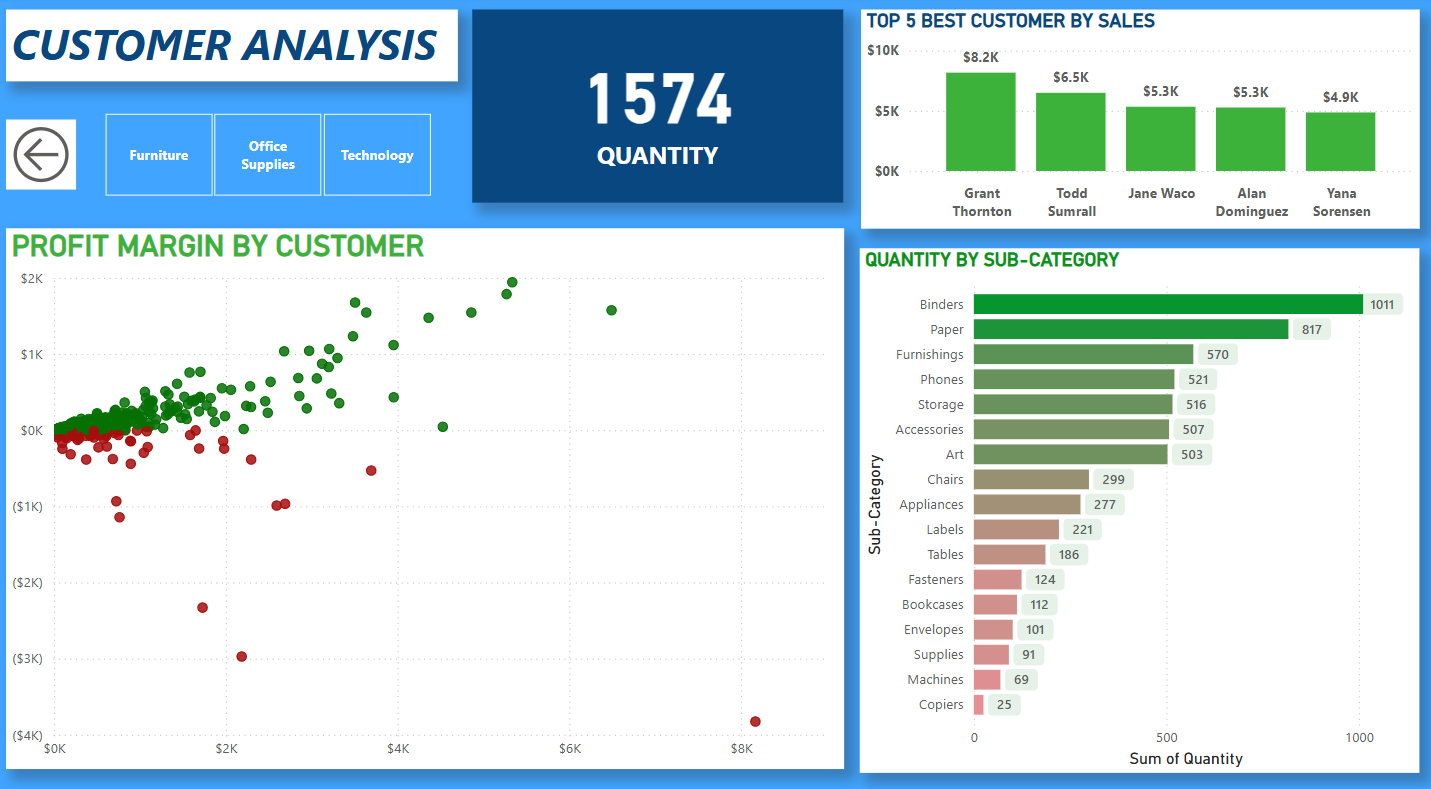

This screenshot's page, from the dashboard's own definition file:
{"tool":"powerbi","page":{"name":"CUSTOMER ANALYSIS","canvas":[1280,720],"ordinal":2},"visuals":[{"type":"scatterChart","title":"PROFIT MARGIN BY CUSTOMER","fields":{"Category":["dataset.Customer Name"],"Y":["dataset.Profit"],"X":["dataset.Sales"]},"box":[8.8,206.2,746.2,481.2],"z":0},{"type":"barChart","title":"QUANTITY BY SUB-CATEGORY","fields":{"Category":["dataset.Sub-Category"],"Y":["dataset.Quantity"]},"box":[769.3,223.3,498.2,467.5],"z":1000},{"type":"textbox","box":[8.8,11.2,402.5,63.8],"z":2000},{"type":"slicer","fields":{"Values":["dataset.Category"]},"box":[71.2,96.9,339.9,87.1],"z":3000},{"type":"columnChart","title":"TOP 5 BEST CUSTOMER BY SALES ","fields":{"Category":["dataset.Customer Name"],"Y":["dataset.Sales"]},"box":[770,11.2,497.5,195],"z":4000},{"type":"card","fields":{"Values":["dataset.Quantity"]},"box":[424.5,11,330.1,171.8],"z":6000},{"type":"actionButton","box":[8.8,108.8,62.5,62.5],"z":7000}]}

Visuals, with their boxes in screenshot pixels (x1, y1, x2, y2), scaled from the page's 1280x720 canvas onto the 1431x789 screenshot:
"PROFIT MARGIN BY CUSTOMER" scatterChart: {"x1": 10, "y1": 226, "x2": 844, "y2": 753}
"QUANTITY BY SUB-CATEGORY" barChart: {"x1": 860, "y1": 245, "x2": 1417, "y2": 757}
textbox: {"x1": 10, "y1": 12, "x2": 460, "y2": 82}
slicer - dataset.Category: {"x1": 80, "y1": 106, "x2": 460, "y2": 202}
"TOP 5 BEST CUSTOMER BY SALES " columnChart: {"x1": 861, "y1": 12, "x2": 1417, "y2": 226}
card - dataset.Quantity: {"x1": 475, "y1": 12, "x2": 844, "y2": 200}
actionButton: {"x1": 10, "y1": 119, "x2": 80, "y2": 188}
